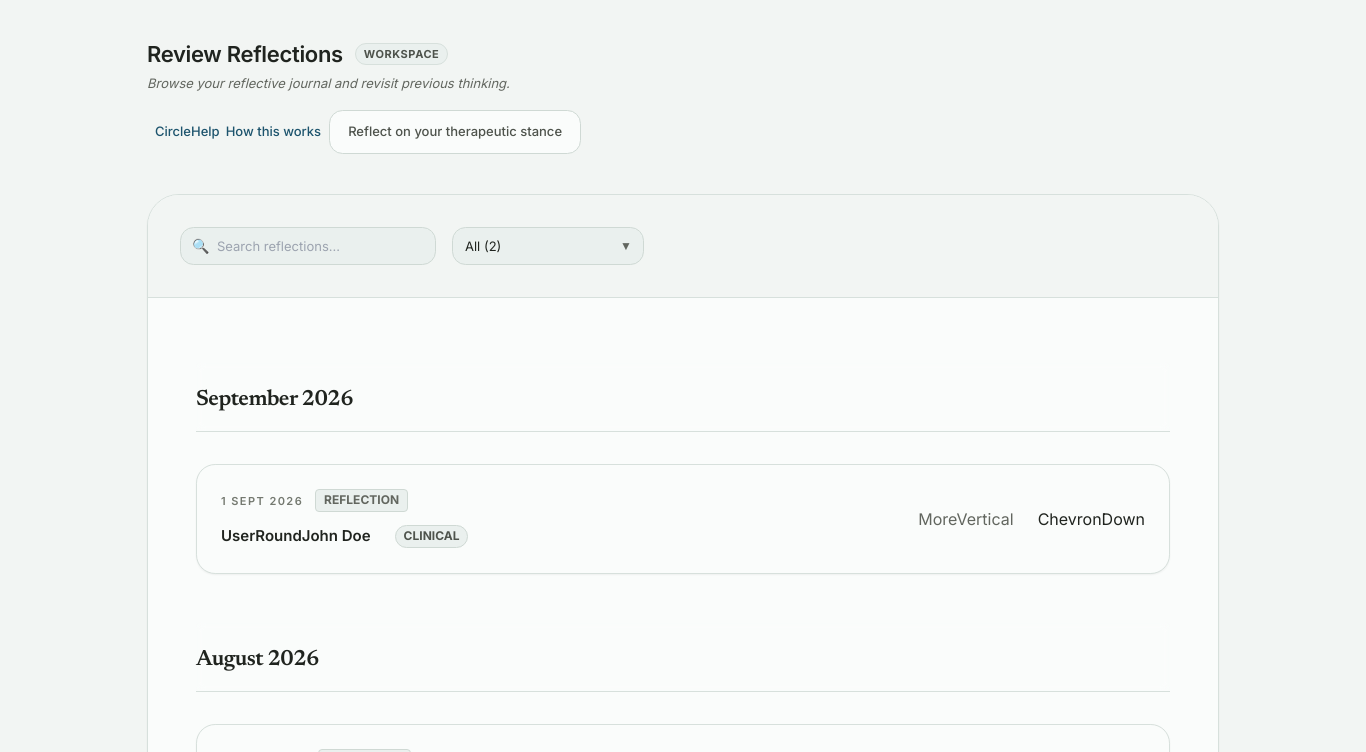
Test: SupervisionReflections.spec.js › filters reflections based on search query
# Search by body
Type "alliance" into the field with placeholder "Search reflections...".
click(308, 246); type("alliance")  # box [180,227,436,265]
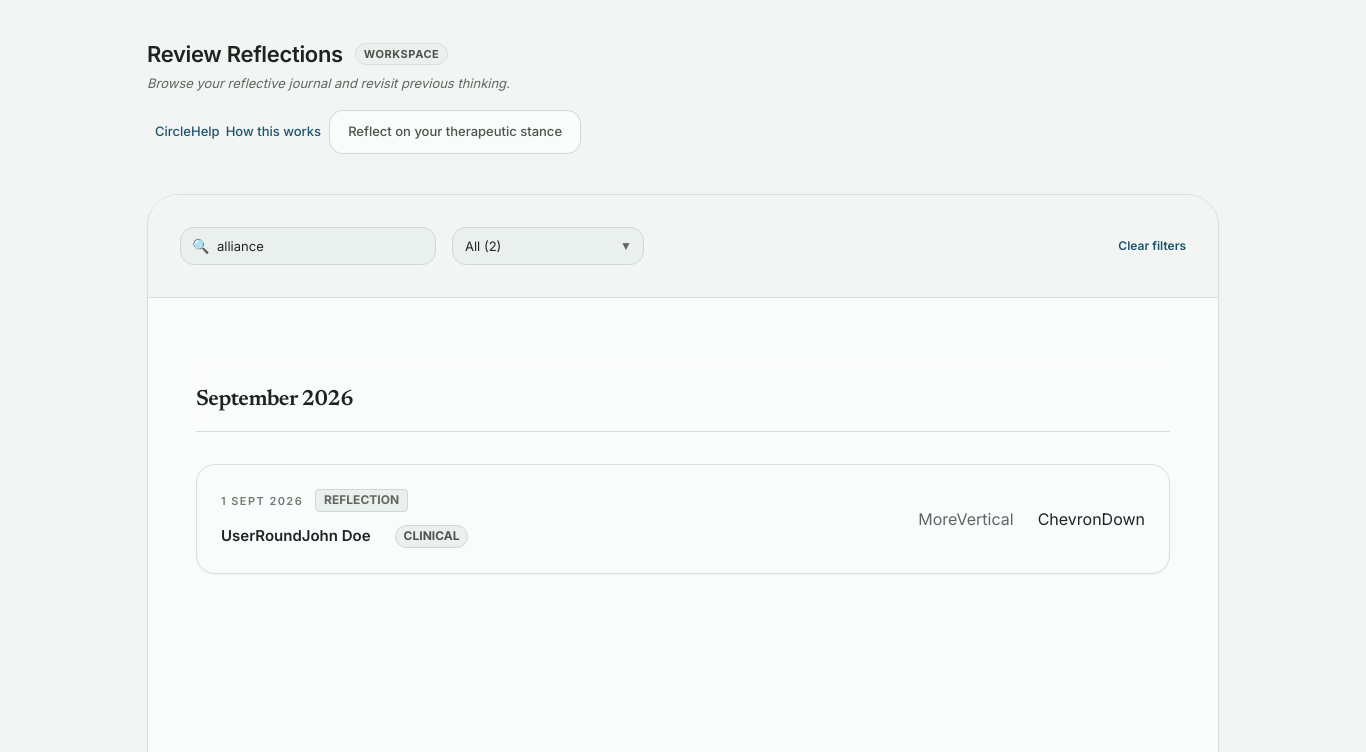
Expected: the text "John Doe" is shown, [302,526,371,545]
# Search by client name
Replace the text in the field with placeholder "Search reflections..." with "Jane" at [308, 246], box [180,227,436,265]
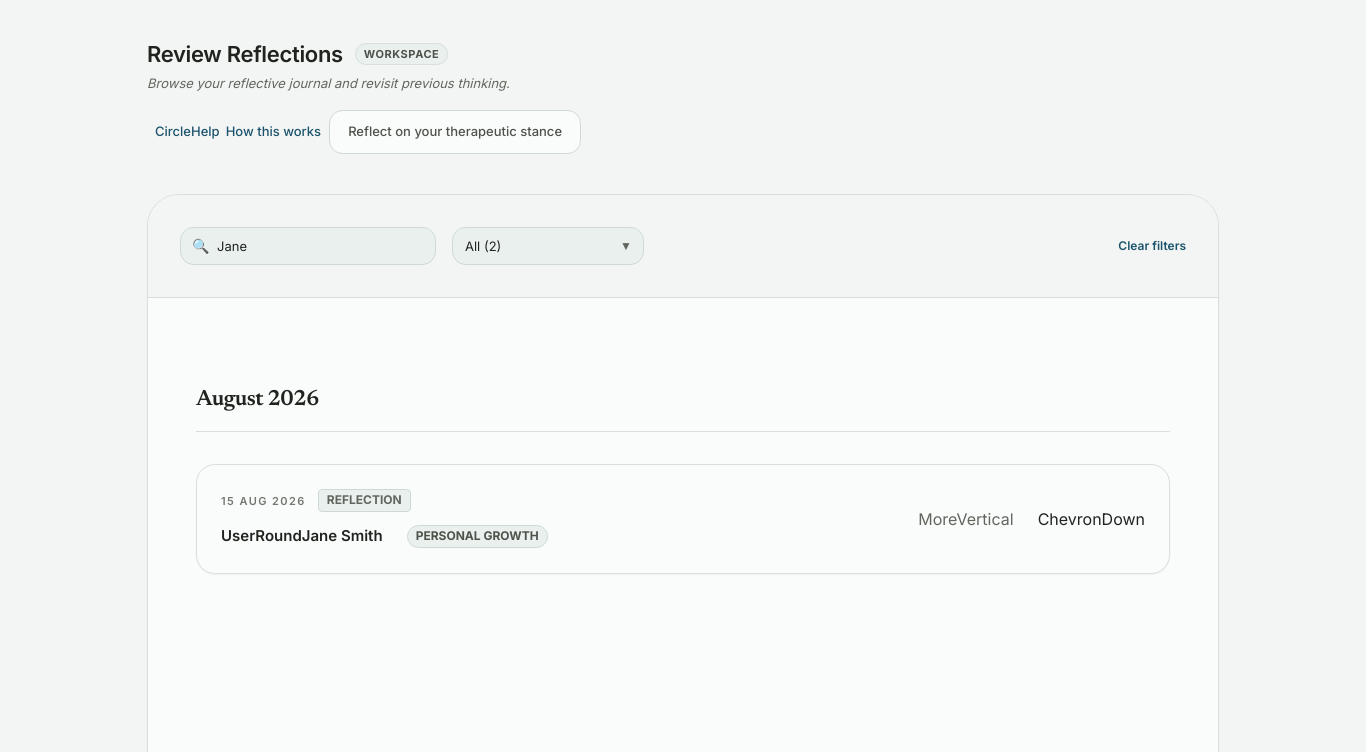
Now the text "Jane Smith" is shown, box [302,526,383,545]
Now the text "John Doe" is gone
# Search by theme
Replace the text in the field with placeholder "Search reflections..." with "Personal" at [308, 246], box [180,227,436,265]
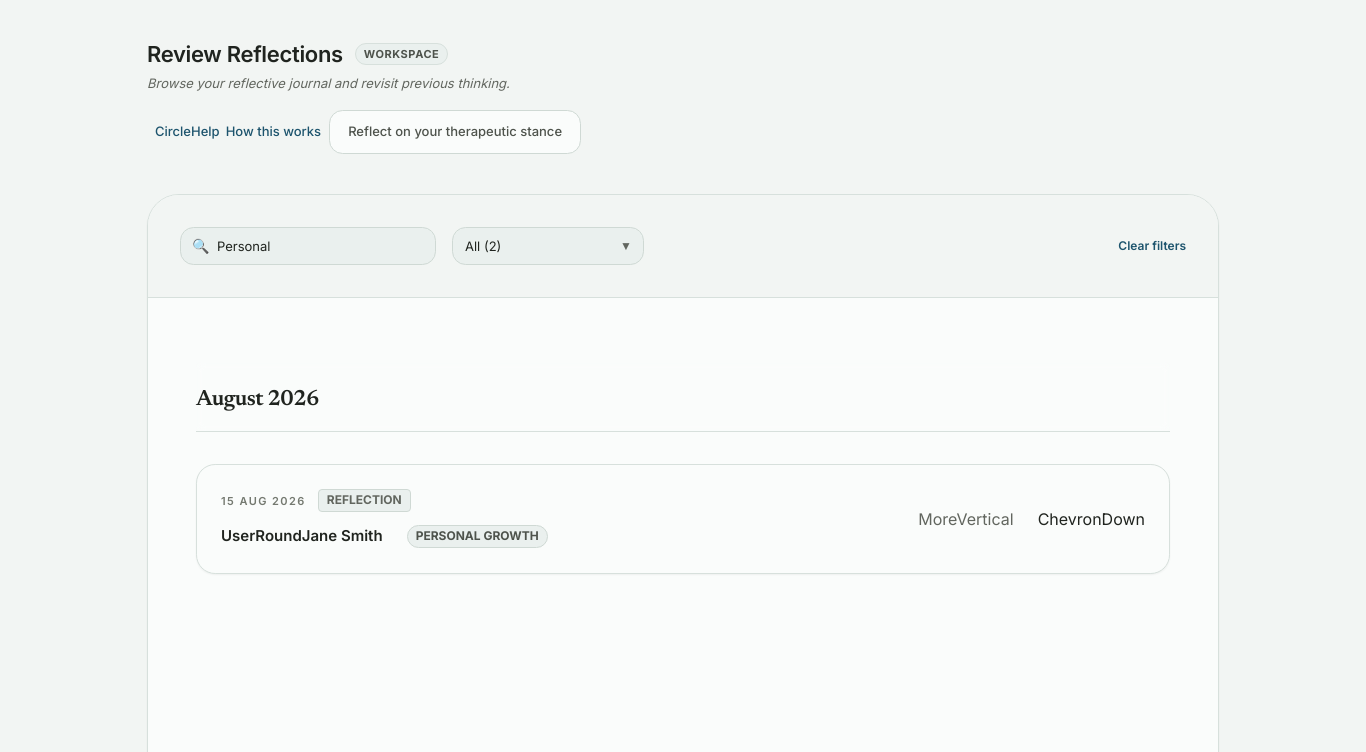
Expected: the text "John Doe" is not shown
Now the text "Jane Smith" is shown, box [302,526,383,545]
# Search by session_ref
Replace the text in the field with placeholder "Search reflections..." with "SESS-001" at [308, 246], box [180,227,436,265]
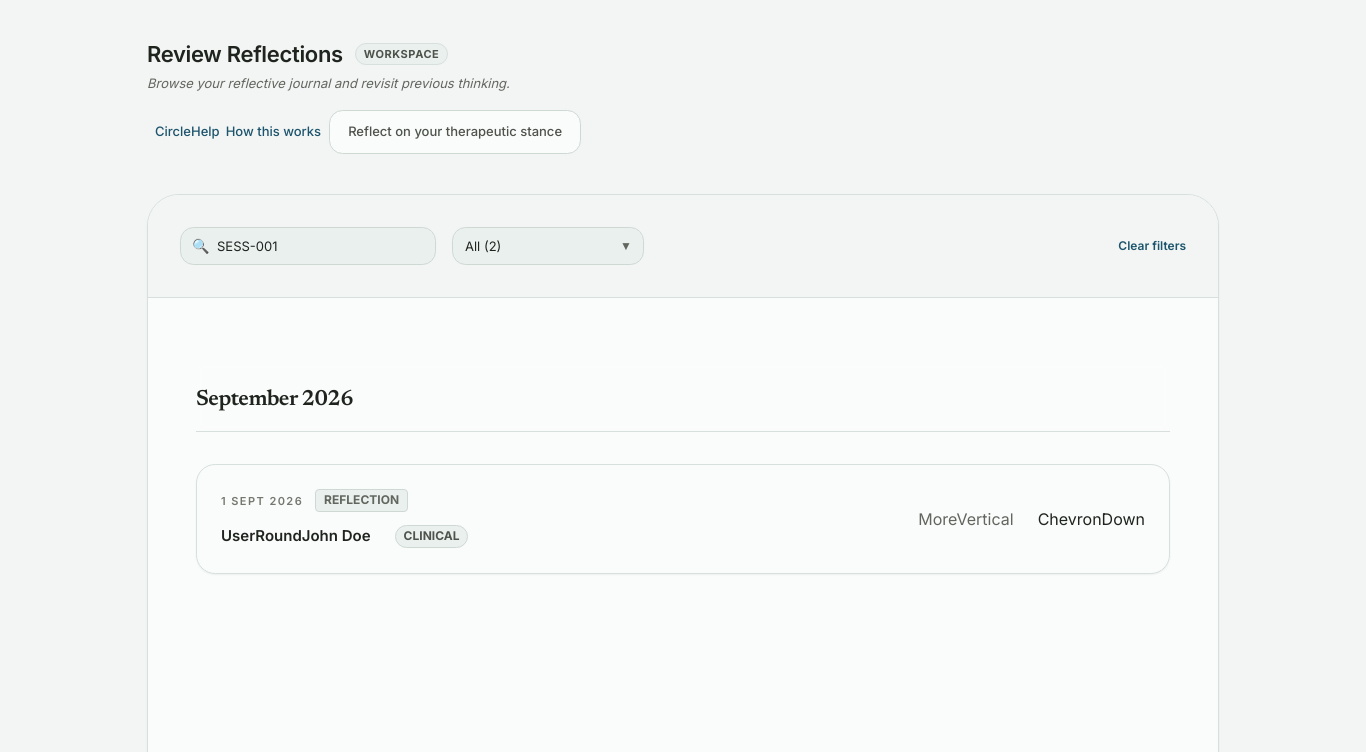
Now the text "John Doe" is shown, box [302,526,371,545]
Now the text "Jane Smith" is gone
